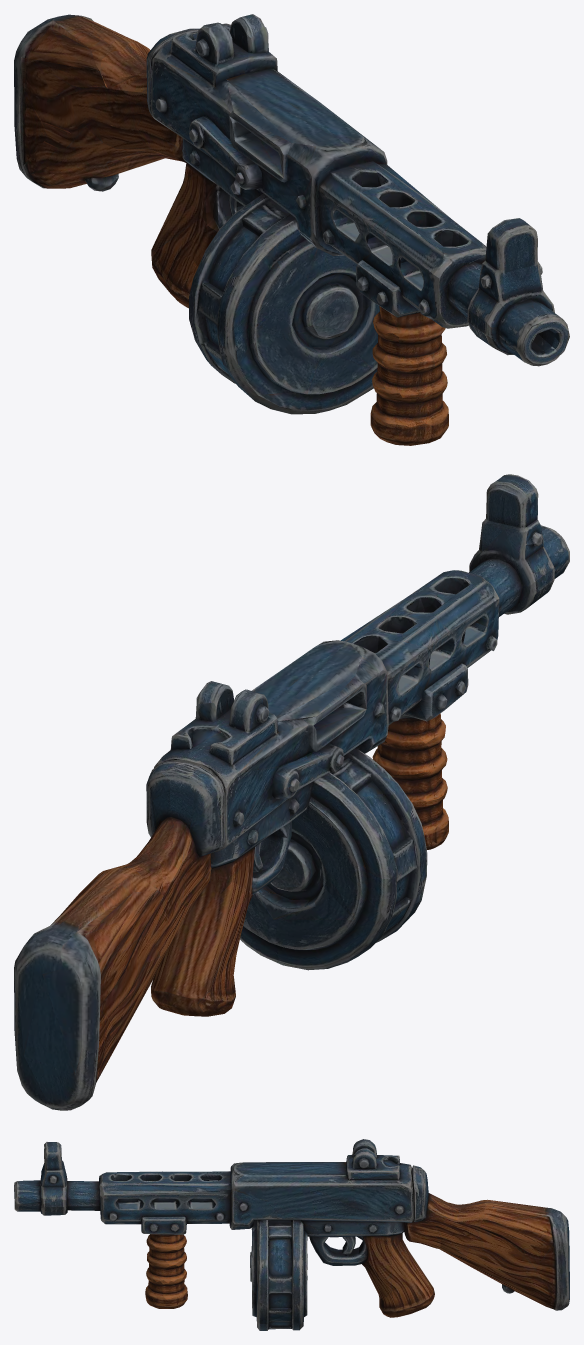
The model's file is gun_tommy.glb.
3 views of the same model, one above another, from view 1: azimuth 30°, elevation 25°; view 2: azimuth 150°, elevation 25°; view 3: azimuth 270°, elevation 25° (orthographic). The views are drawn at different scales.
Bounding box in the file's own units: 0.2931 × 0.4494 × 1.25.
1 material, 1 textured.
